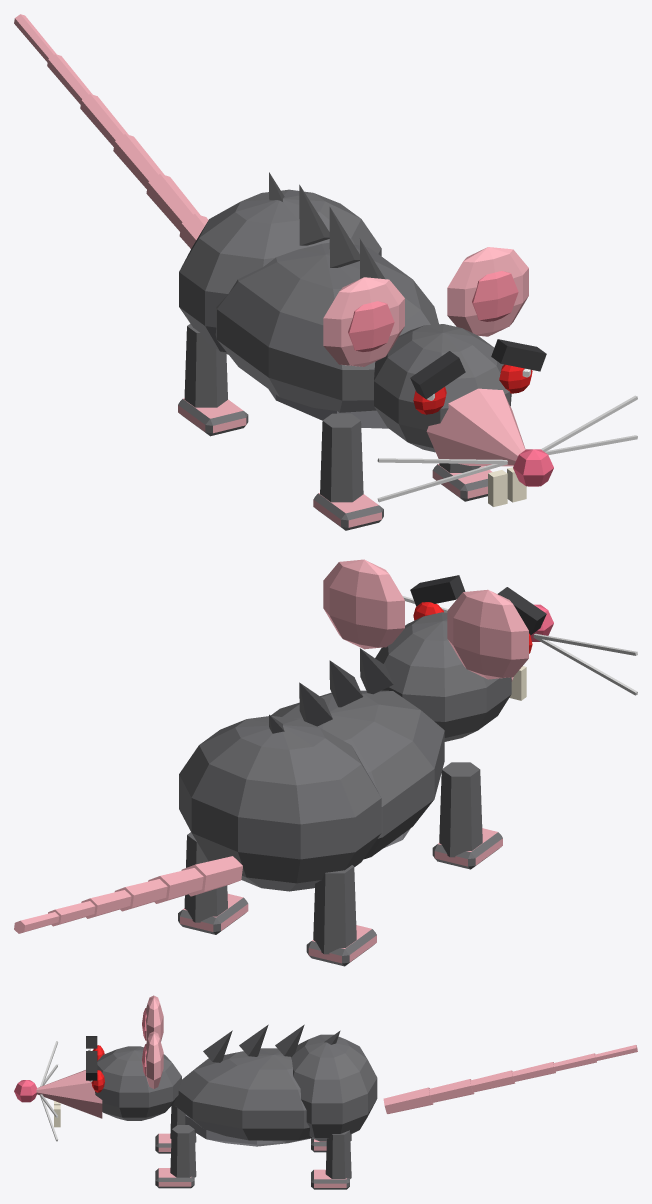
The model's file is ratte.glb.
The picture shows the model from 3 angles, top to bottom: view 1: azimuth 30°, elevation 25°; view 2: azimuth 150°, elevation 25°; view 3: azimuth 270°, elevation 25°; orthographic projection. The views are drawn at different scales.
Visible parts, largest first — view 1: body, head-m, ear-0-m, ear-1-m, leg-1-m, leg-3-m, tail-1-m, leg-0-m, tail-2-m, tail-3-m, tail-4-m, eye-1-m (+1 smaller); view 2: body, head-m, ear-0-m, ear-1-m, leg-1-m, leg-3-m, leg-2-m, tail-0-m, tail-1-m, tail-2-m, tail-3-m, tail-4-m; view 3: body, head-m, leg-0-m, leg-2-m, ear-1-m, tail-0-m, ear-0-m, tail-1-m, leg-1-m, tail-2-m, tail-3-m, tail-4-m (+1 smaller).
Part boxes in pixels (x1,y1,x2,y2): body: [179, 172, 438, 428]; head-m: [374, 324, 637, 506]; ear-0-m: [323, 277, 404, 366]; ear-1-m: [447, 247, 528, 336]; leg-1-m: [313, 413, 383, 530]; leg-3-m: [178, 323, 248, 436]; tail-1-m: [146, 174, 200, 231]; leg-0-m: [432, 463, 491, 501]; tail-2-m: [113, 134, 164, 188]; tail-3-m: [80, 94, 128, 146]; tail-4-m: [47, 54, 92, 104]; eye-1-m: [499, 364, 532, 393]; body: [179, 648, 444, 891]; head-m: [375, 575, 637, 741]; ear-0-m: [447, 589, 528, 679]; ear-1-m: [323, 559, 404, 649]; leg-1-m: [432, 762, 502, 869]; leg-3-m: [306, 865, 376, 966]; leg-2-m: [178, 832, 248, 934]; tail-0-m: [181, 856, 242, 896]; tail-1-m: [148, 868, 203, 903]; tail-2-m: [114, 879, 167, 911]; tail-3-m: [81, 890, 131, 918]; tail-4-m: [48, 901, 95, 926]; body: [173, 1024, 377, 1146]; head-m: [14, 1036, 181, 1141]; leg-0-m: [155, 1125, 196, 1188]; leg-2-m: [311, 1130, 351, 1189]; ear-1-m: [142, 1031, 163, 1088]; tail-0-m: [383, 1087, 433, 1113]; ear-0-m: [142, 995, 163, 1041]; tail-1-m: [429, 1079, 474, 1102]; leg-1-m: [155, 1103, 196, 1153]; tail-2-m: [470, 1070, 515, 1092]; tail-3-m: [512, 1062, 555, 1081]; tail-4-m: [553, 1053, 596, 1071].
Size of the model in its own units: 1.09 by 1.02 by 3.82.
